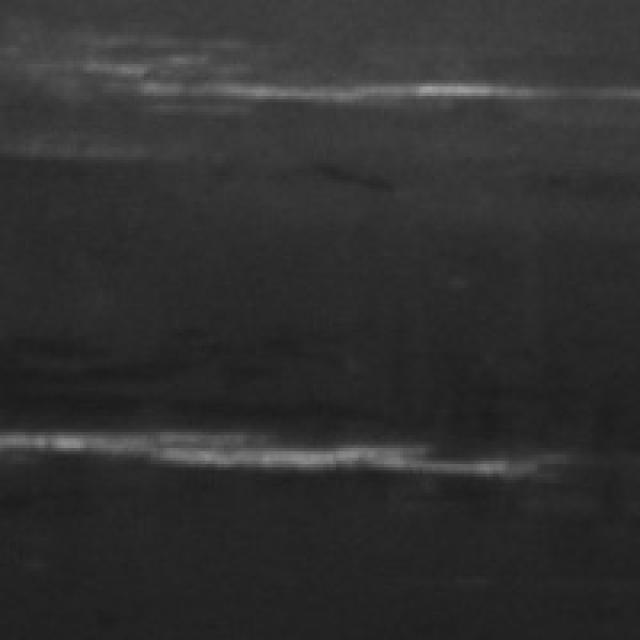scratches: (36, 32, 598, 115), (0, 413, 544, 486)
